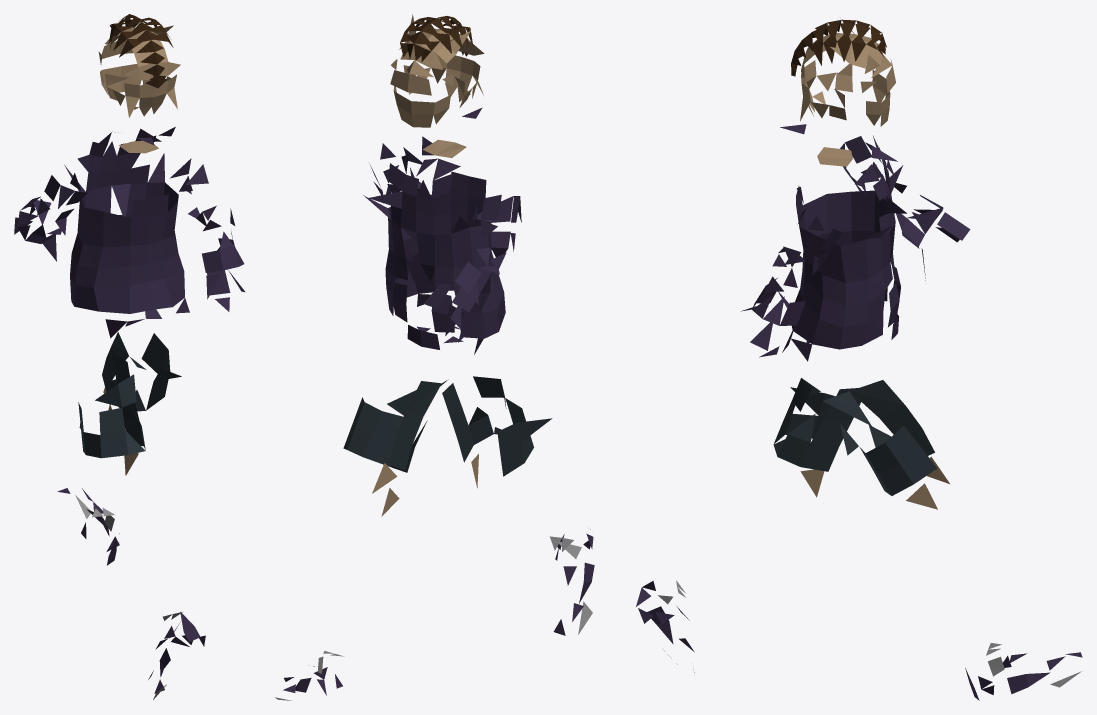
Rendered from personfar_11_w2.fbx.
3 views of the same model, side by side, from view 1: azimuth 30°, elevation 25°; view 2: azimuth 150°, elevation 25°; view 3: azimuth 270°, elevation 25° (orthographic). The views are drawn at different scales.
Visible parts, largest first — view 1: Casual_Feet; view 2: Casual_Feet; view 3: Casual_Feet.
Boxes of the visible parts, left/top/right/bottom form: Casual_Feet: left=14, top=14, right=245, bottom=699; Casual_Feet: left=275, top=14, right=594, bottom=700; Casual_Feet: left=636, top=18, right=1082, bottom=700.
Size of the model in its own units: 0.2689 by 0.9959 by 0.6102.
